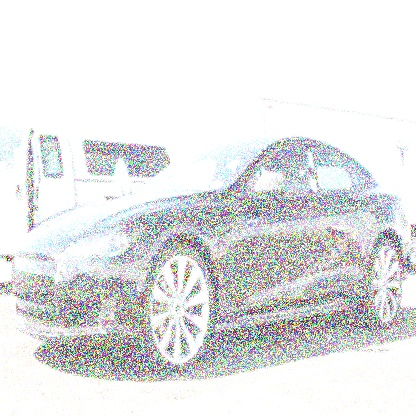Vehicle: (5, 106, 415, 385)
